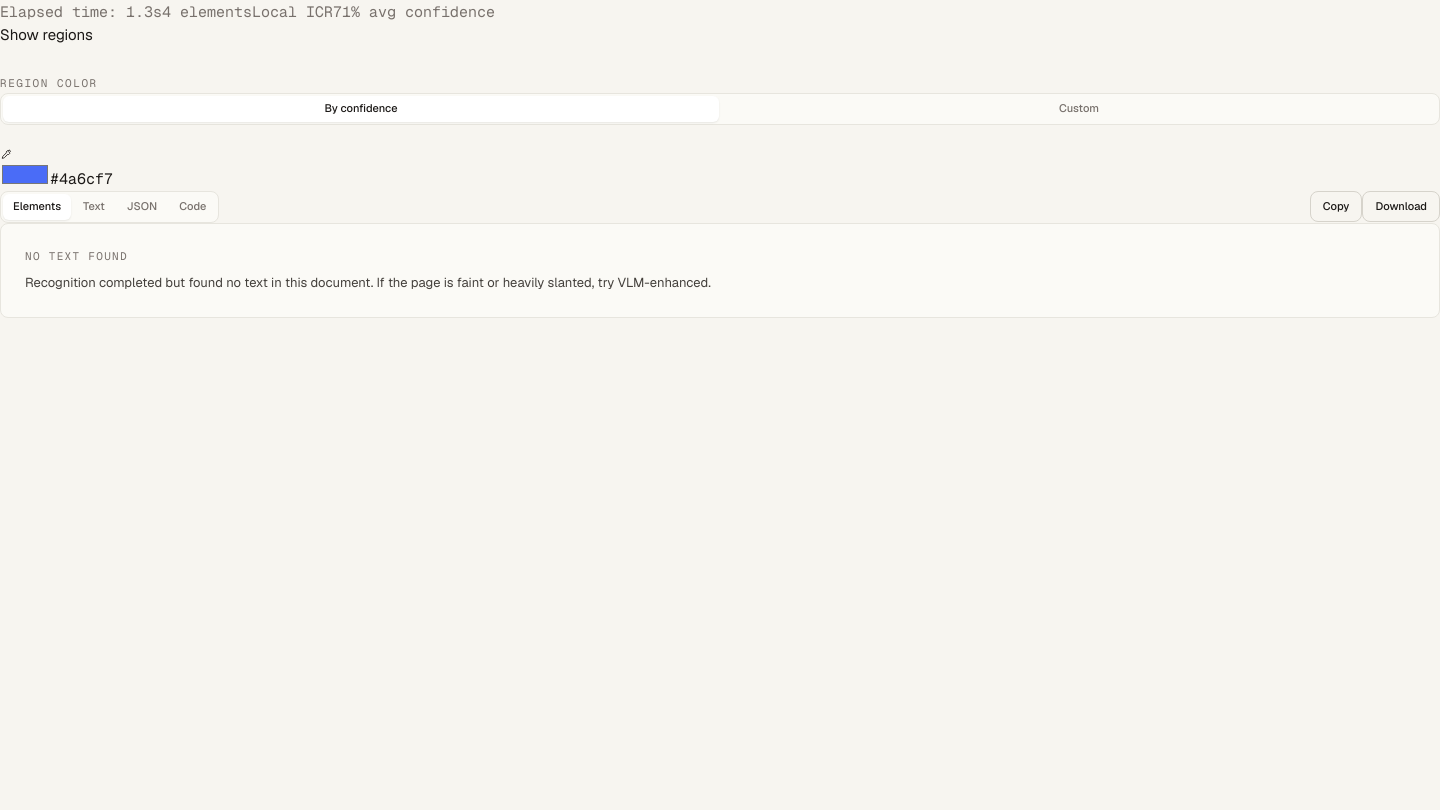
Test: an empty run still offers the actions row and the Code view
Expected: the text "No text found" is shown, [25, 248, 128, 262]
Expected: the button "Copy" is shown, [1310, 191, 1362, 222]
Click the button "Code" at (193, 206), box [169, 194, 216, 220]
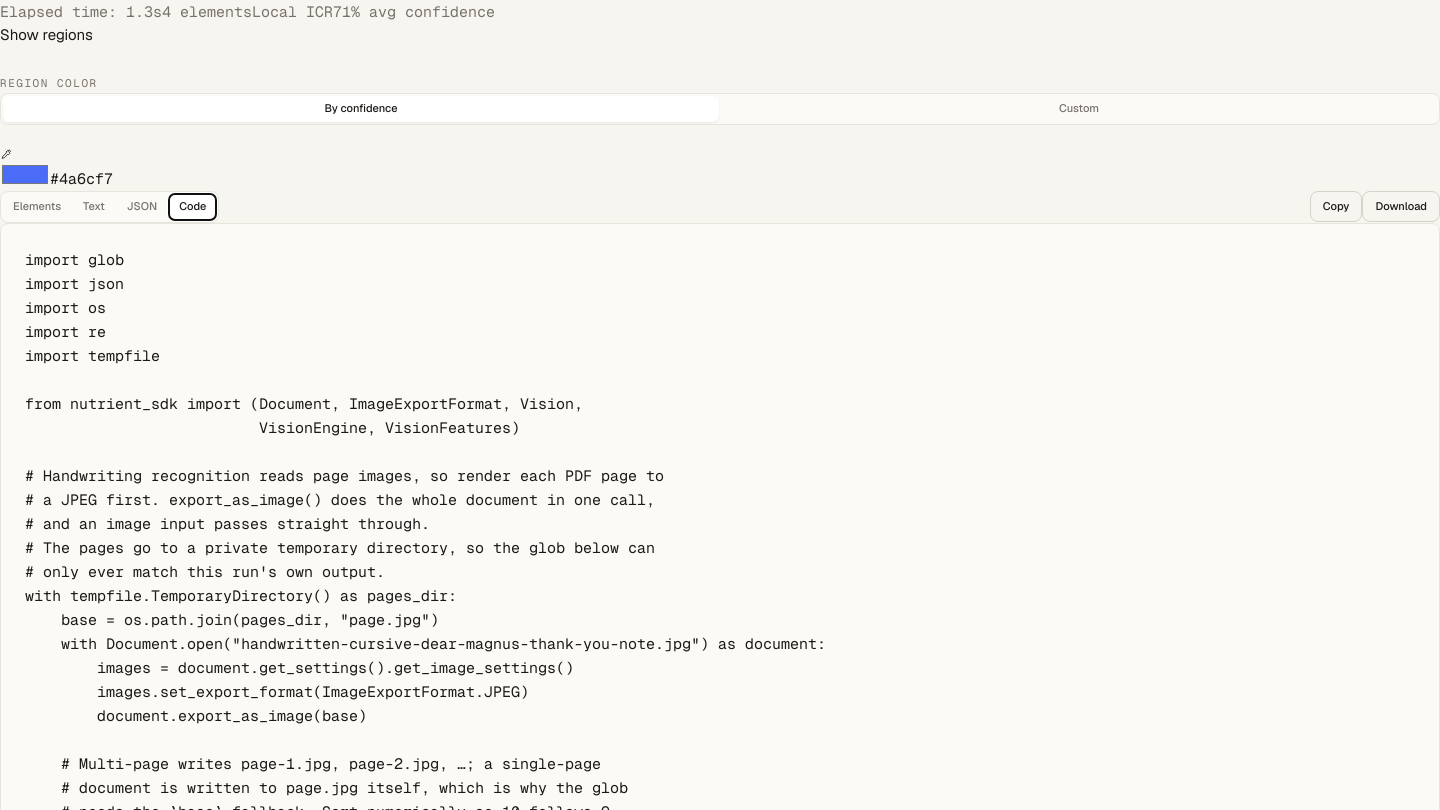
Click the button "JSON" at (142, 206), box [117, 194, 167, 220]
(page scrolled)
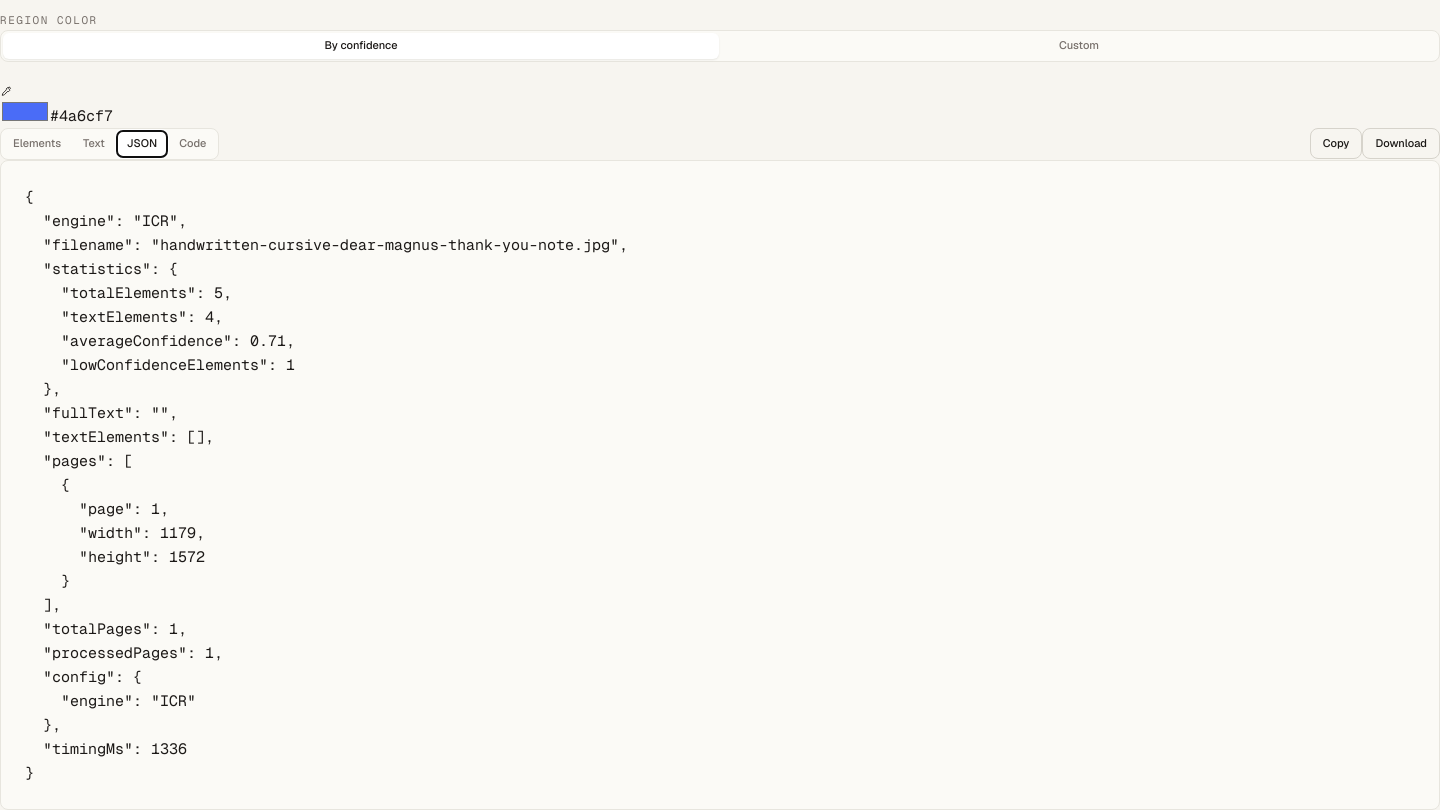
Expected: the text "\"engine\": \"ICR\"" is shown, [25, 186, 628, 782]
